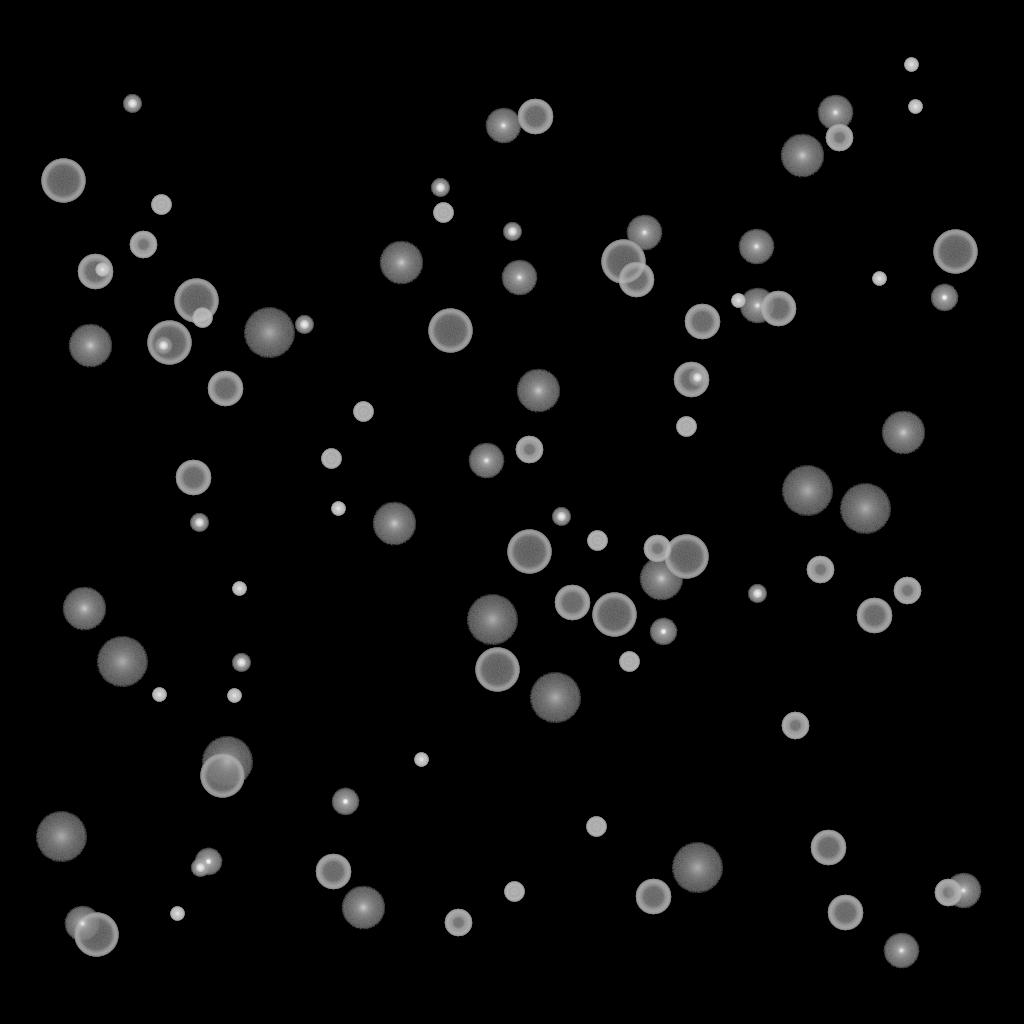depth:-10: (930, 284, 958, 312), (194, 848, 222, 876), (331, 788, 359, 816), (649, 618, 677, 646)
depth:-20: (154, 337, 172, 355), (190, 514, 208, 532), (295, 316, 313, 334), (431, 179, 449, 197), (552, 508, 570, 526), (123, 95, 141, 113), (748, 585, 766, 603), (191, 859, 209, 877), (688, 369, 706, 387), (503, 223, 521, 241), (232, 654, 250, 672)
depth:-30: (908, 100, 922, 114), (331, 502, 345, 516), (95, 263, 109, 277), (904, 58, 918, 72), (414, 753, 428, 767), (232, 582, 246, 596), (872, 272, 886, 286), (227, 689, 241, 703), (731, 294, 745, 308), (152, 688, 166, 702), (170, 907, 184, 921)
depth:-40: (587, 531, 607, 551), (619, 652, 639, 672), (321, 449, 341, 469), (586, 817, 606, 837), (676, 417, 696, 437), (192, 308, 212, 328), (433, 203, 453, 223), (151, 195, 171, 215), (353, 402, 373, 422), (504, 882, 524, 902)
depth:-50: (825, 124, 853, 152), (129, 231, 157, 259), (806, 556, 834, 584), (515, 436, 543, 464), (893, 577, 921, 605), (643, 535, 671, 563), (444, 909, 472, 937), (781, 712, 809, 740), (934, 879, 962, 907)
depth:-60: (207, 371, 243, 407), (517, 99, 553, 135), (175, 460, 211, 496), (315, 854, 351, 890), (554, 585, 590, 621), (856, 598, 892, 634), (827, 895, 863, 931), (684, 304, 720, 340), (673, 362, 709, 398), (77, 254, 113, 290), (635, 879, 671, 915), (810, 830, 846, 866), (618, 262, 654, 298), (760, 291, 796, 327)
depth:-70: (428, 309, 472, 353), (601, 240, 645, 284), (200, 754, 244, 798), (475, 648, 519, 692), (41, 159, 85, 203), (592, 593, 636, 637), (147, 321, 191, 365), (74, 913, 118, 957), (507, 530, 551, 574), (174, 279, 218, 323), (933, 230, 977, 274), (664, 535, 708, 579)
depth:0: (738, 229, 774, 265), (485, 108, 521, 144), (626, 215, 662, 251), (468, 443, 504, 479), (817, 95, 853, 131), (501, 260, 537, 296), (945, 873, 981, 909), (739, 288, 775, 324), (883, 933, 919, 969), (64, 906, 100, 942)
depth:10: (341, 886, 385, 930), (62, 587, 106, 631), (780, 134, 824, 178), (516, 369, 560, 413), (881, 411, 925, 455), (372, 502, 416, 546), (68, 324, 112, 368), (639, 557, 683, 601), (379, 241, 423, 285)
depth:20: (781, 466, 833, 516), (96, 637, 148, 687), (671, 843, 723, 893), (839, 484, 891, 534), (466, 595, 518, 645), (35, 812, 87, 862), (243, 308, 295, 358), (529, 673, 581, 723), (201, 737, 253, 787)
